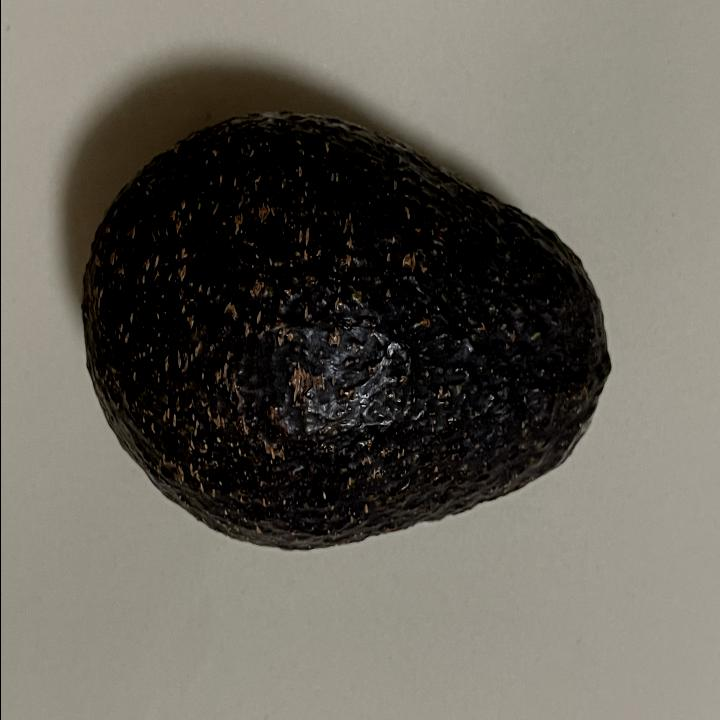Level2: (75, 101, 615, 561)
